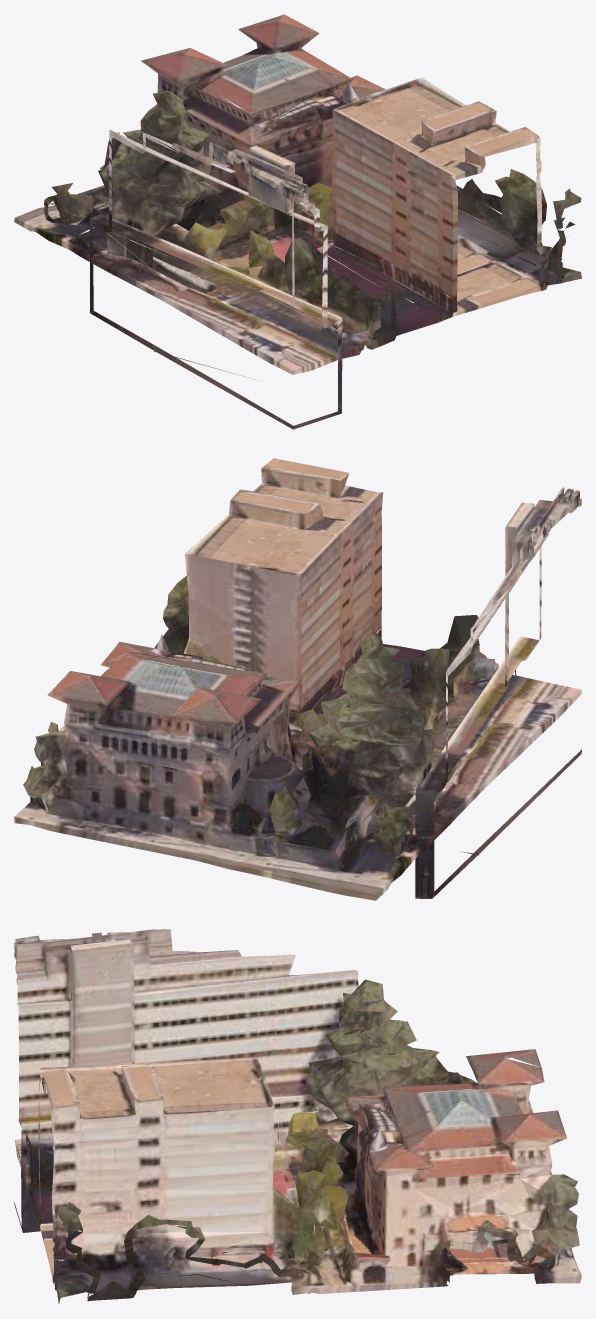
The picture shows the model from 3 angles, top to bottom: view 1: azimuth 30°, elevation 25°; view 2: azimuth 150°, elevation 25°; view 3: azimuth 270°, elevation 25°; orthographic projection. The views are drawn at different scales.
Visible parts, largest first — view 1: Mesh_0; view 2: Mesh_0; view 3: Mesh_0.
Boxes of the visible parts, x1,y1,x2,y2 form: Mesh_0: [14, 14, 581, 429]; Mesh_0: [14, 458, 581, 900]; Mesh_0: [14, 929, 581, 1304].
Bounding box in the file's own units: 66.58 × 43.82 × 82.64.
Materials: 2 (2 with a texture image).
